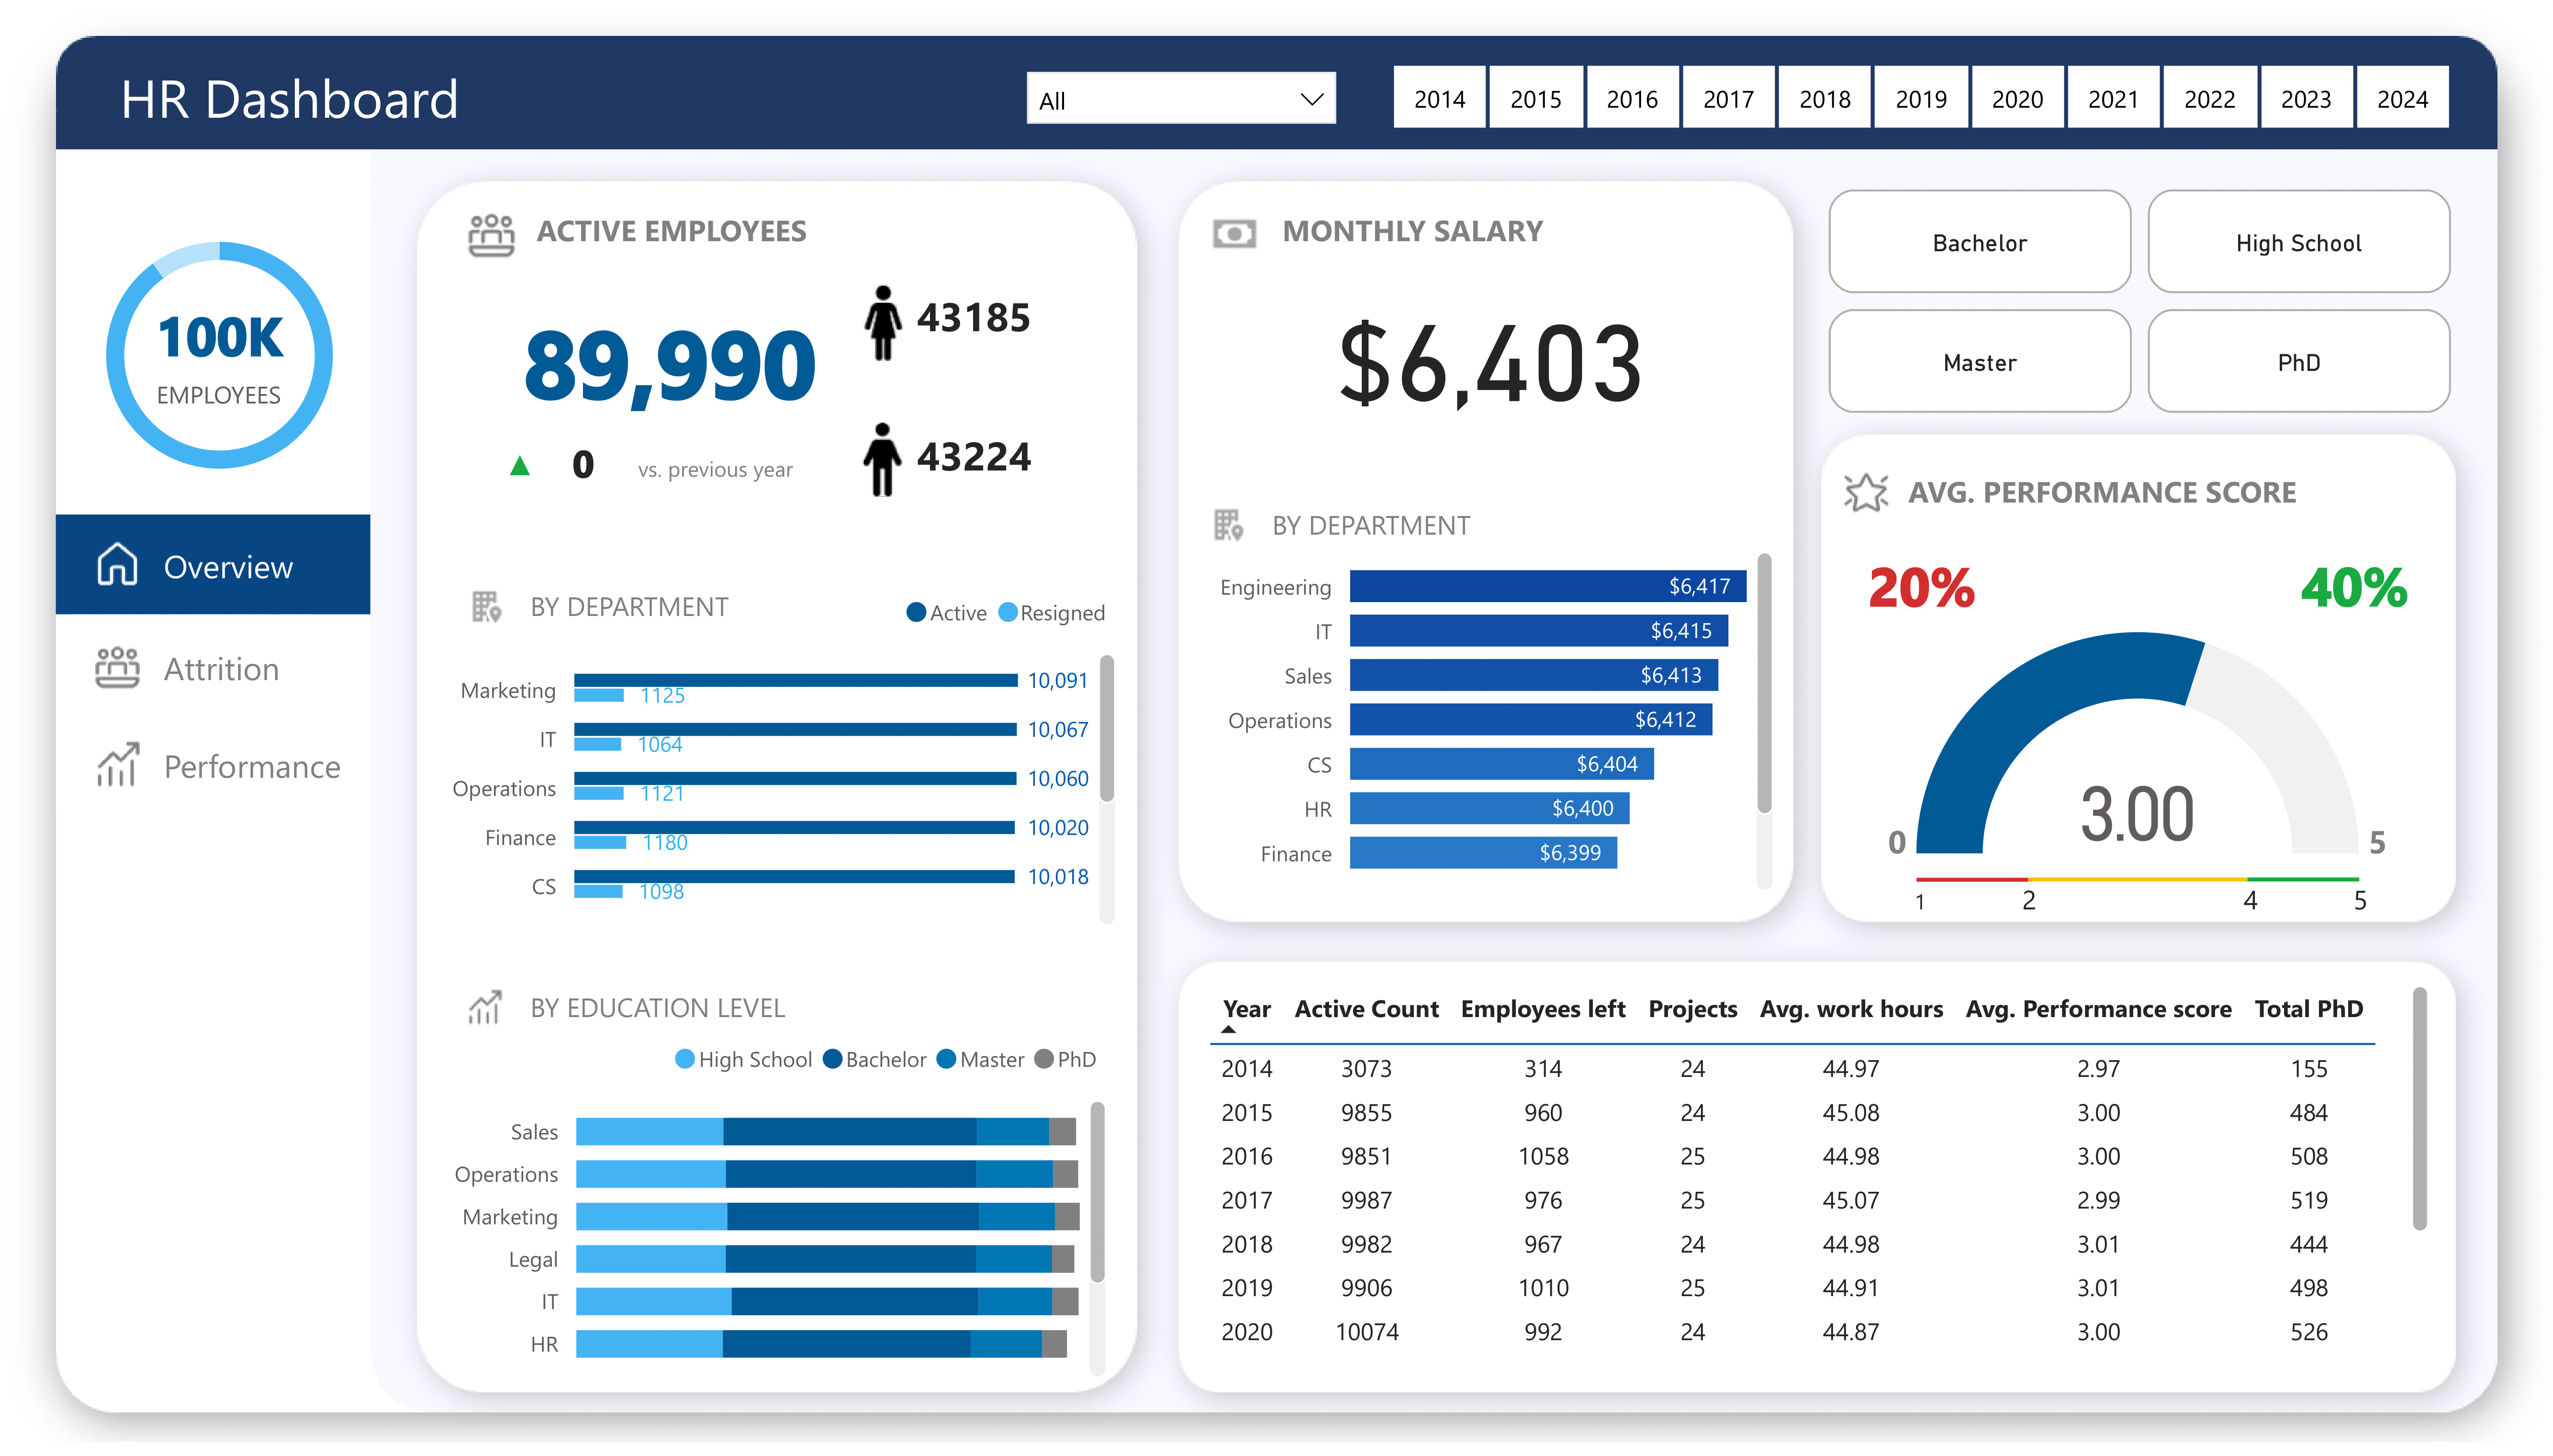

This screenshot's page, from the dashboard's own definition file:
{"tool":"powerbi","page":{"name":"Overview dashboard","canvas":[1280,720],"ordinal":0},"visuals":[{"type":"actionButton","title":"Button Performance","box":[27.8,353.4,158,50],"z":0},{"type":"shape","box":[961.8,429.5,56,12.3],"z":0,"group":"g13"},{"type":"actionButton","title":"Button Remote Work","box":[419.8,201.8,45,45],"z":1000,"group":"g2"},{"type":"shape","box":[1018,429.6,110,12],"z":1000,"group":"g13"},{"type":"actionButton","title":"Button Attrition","box":[27.6,303.6,158,50],"z":2000},{"type":"shape","box":[1128,429.6,56,12],"z":2000,"group":"g13"},{"type":"actionButton","title":"Button Perform Score","box":[414.8,126.3,55.8,60],"z":3000,"group":"g5"},{"type":"card","title":"Card Remote Work","fields":{"Values":["*Measures.LowPerformancePct"]},"box":[928.6,266.7,70,45],"z":3000,"group":"g8"},{"type":"card","title":"Card Remote Work","fields":{"Values":["*Measures.HighPerformancePct"]},"box":[1145.9,266.7,70,44.8],"z":4000},{"type":"actionButton","title":"Button Perform Score","box":[920.4,225.6,32,32],"z":5000,"group":"g3"},{"type":"actionButton","title":"Button Perform Score","box":[601.1,243.5,28,28],"z":5000,"group":"g1"},{"type":"actionButton","title":"Button Perform Score","box":[229.3,284.7,28,28],"z":5000,"group":"g4"},{"type":"actionButton","title":"Button Perform Score","box":[229.3,486.1,28,28],"z":5000,"group":"g6"},{"type":"actionButton","title":"Button Overview Active","box":[27.7,253.2,157.7,50],"z":6000},{"type":"slicer","fields":{"Values":["Employee.Department"]},"box":[504.9,21,175,45],"z":7000},{"type":"actionButton","title":"Button Perform Score","box":[229.3,95.2,35,35],"z":7000,"group":"g10"},{"type":"textbox","box":[54.7,20.3,254,50],"z":8000},{"type":"clusteredBarChart","title":"DEPARTMENT","fields":{"Category":["Employee.Department (Short)"],"Y":["*Measures.AvgSalary"]},"box":[601.1,259.1,292.9,187.3],"z":9000},{"type":"barChart","title":"EDUCATION LEVEL","fields":{"Category":["Employee.Department (Short)"],"Y":["*Measures.ActiveEmployeeCount"],"Series":["EducationLevelTable.Education_Level"]},"box":[212.9,507.1,346.4,182.9],"z":10000},{"type":"card","title":"Card Total Employees","fields":{"Values":["*Measures.TotalEmployees"]},"box":[38.6,127.1,141.4,90],"z":11000},{"type":"donutChart","fields":{"Y":["*Measures.ActiveEmployeeCount","*Measures.ExitEmployee"]},"box":[33.6,75.7,152.1,194.3],"z":12000},{"type":"card","title":"ACTIVE EMPLOYEES","fields":{"Values":["*Measures.ActiveEmployeeCount"]},"box":[256,130.6,160,88.6],"z":12000,"group":"g9"},{"type":"card","title":"Card Active Employees","fields":{"Values":["*Measures.ActiveChangeABS"]},"box":[263.5,213.6,59.1,30],"z":13000,"group":"g7"},{"type":"tableEx","fields":{"Values":["DateTable.Year","*Measures.ActiveEmployeeCount","*Measures.TotalResigned","*Measures.Total Projects","*Measures.AvgWorkHours","*Measures.AvgPerformanceScore","*Measures.Total_PhD"]},"box":[601.4,484.3,622.1,199.3],"z":13000},{"type":"slicer","fields":{"Values":["DateTable.Year"]},"box":[673.2,21,579.2,45],"z":14000},{"type":"clusteredBarChart","fields":{"Category":["Employee.Department (Short)"],"Y":["*Measures.ActiveEmployeeCount","*Measures.TotalResigned"]},"box":[212.1,282.9,352.1,180],"z":15000},{"type":"card","title":"Monthly salary | DEPARTMENT","fields":{"Values":["*Measures.AvgSalary"]},"box":[653.9,124.6,187.9,90.3],"z":16000},{"type":"advancedSlicerVisual","fields":{"Values":["Employee.Education_Level"]},"box":[912.4,85.3,323,122.2],"z":17000},{"type":"gauge","title":"AVG. PERFORMANCE SCORE","fields":{"Y":["*Measures.AvgPerformanceScore"],"MaxValue":["*Measures.MaxPerformance"]},"box":[928.2,306.4,287.7,125.9],"z":17000,"group":"g11"},{"type":"group","id":"g1","title":"Group 4","box":[601.1,243.5,246.2,31.9],"z":18000},{"type":"card","fields":{"Values":["*Measures.Female"]},"box":[447.1,124.6,83.3,60],"z":19000,"group":"g5"},{"type":"group","id":"g2","title":"Group 2","box":[419.8,194.3,109.8,60],"z":19000,"group":"g9"},{"type":"group","id":"g3","title":"Group 4","box":[920.4,225.6,246.2,32.3],"z":19000,"group":"g11"},{"type":"group","id":"g4","title":"Group 4","box":[229.3,284.7,246.2,31.9],"z":19000},{"type":"textbox","box":[264.3,95,157.9,32.1],"z":20000,"group":"g10"},{"type":"group","id":"g5","title":"Group 3","box":[414.8,124.6,115.7,61.7],"z":20000,"group":"g9"},{"type":"group","id":"g6","title":"Group 4","box":[229.3,486.1,246.2,32.3],"z":20000},{"type":"group","id":"g7","title":"Group 1","box":[246.2,213.6,165.9,30],"z":21000,"group":"g9"},{"type":"group","id":"g8","title":"Group 5","box":[928.6,266.7,70,44.8],"z":21000},{"type":"textbox","box":[638.5,95.7,165.7,32.1],"z":21002,"group":"g12"},{"type":"textbox","box":[952.3,226,214.3,31.9],"z":21006,"group":"g3"},{"type":"textbox","box":[633,243.5,214.3,31.9],"z":21006,"group":"g1"},{"type":"textbox","box":[261.2,284.7,214.3,31.9],"z":21006,"group":"g4"},{"type":"textbox","box":[261.2,486.5,214.3,31.9],"z":21006,"group":"g6"},{"type":"actionButton","title":"Button Perform Score","box":[601.4,94.3,36.4,37.1],"z":21007,"group":"g12"},{"type":"group","id":"g9","title":"Group 7","box":[246.2,124.6,284.3,129.7],"z":22000},{"type":"group","id":"g10","title":"Group 9","box":[229.3,95,192.9,35.2],"z":23000},{"type":"card","fields":{"Values":["*Measures.Male"]},"box":[446.3,194.3,83.3,60],"z":23000,"group":"g2"},{"type":"group","id":"g11","title":"Group 10","box":[920.4,225.6,295.5,237.4],"z":24000},{"type":"group","id":"g12","title":"Group 6","box":[601.4,94.3,202.9,37.1],"z":25000},{"type":"textbox","box":[314.8,214.6,97.3,29],"z":25000,"group":"g7"},{"type":"card","fields":{"Values":["*Measures.Change_Icon"]},"box":[246.2,215.1,29.3,24],"z":26000,"group":"g7"},{"type":"textbox","box":[955.4,431.5,15,31.4],"z":26000,"group":"g11"},{"type":"textbox","box":[1175.3,431.5,17.7,31.4],"z":27000,"group":"g11"},{"type":"textbox","box":[1120.5,431.5,17,31.5],"z":28000,"group":"g11"},{"type":"textbox","box":[1009,431.5,18,31],"z":29000,"group":"g11"},{"type":"group","id":"g13","title":"Group 8","box":[961.8,429.5,222.2,12.3],"z":30000,"group":"g11"}]}

Visuals, with their boxes in screenshot pixels (x1, y1, x2, y2), scaled from the page's 1280x720 canvas onto the 2553x1456 screenshot:
"Button Performance" actionButton: pyautogui.locateOnScreen(56, 715, 370, 816)
shape: pyautogui.locateOnScreen(1918, 869, 2030, 894)
"Button Remote Work" actionButton: pyautogui.locateOnScreen(837, 408, 927, 499)
shape: pyautogui.locateOnScreen(2030, 869, 2250, 893)
"Button Attrition" actionButton: pyautogui.locateOnScreen(55, 614, 370, 715)
shape: pyautogui.locateOnScreen(2250, 869, 2362, 893)
"Button Perform Score" actionButton: pyautogui.locateOnScreen(828, 256, 939, 377)
"Card Remote Work" card: pyautogui.locateOnScreen(1852, 539, 1992, 630)
"Card Remote Work" card: pyautogui.locateOnScreen(2285, 539, 2425, 630)
"Button Perform Score" actionButton: pyautogui.locateOnScreen(1836, 456, 1900, 521)
"Button Perform Score" actionButton: pyautogui.locateOnScreen(1199, 493, 1255, 549)
"Button Perform Score" actionButton: pyautogui.locateOnScreen(458, 576, 513, 632)
"Button Perform Score" actionButton: pyautogui.locateOnScreen(458, 983, 513, 1040)
"Button Overview Active" actionButton: pyautogui.locateOnScreen(55, 512, 370, 613)
slicer - Employee.Department: pyautogui.locateOnScreen(1007, 43, 1356, 134)
"Button Perform Score" actionButton: pyautogui.locateOnScreen(458, 192, 527, 263)
textbox: pyautogui.locateOnScreen(109, 41, 616, 142)
"DEPARTMENT" clusteredBarChart: pyautogui.locateOnScreen(1199, 524, 1783, 903)
"EDUCATION LEVEL" barChart: pyautogui.locateOnScreen(425, 1025, 1116, 1395)
"Card Total Employees" card: pyautogui.locateOnScreen(77, 257, 359, 439)
donutChart - *Measures.ActiveEmployeeCount x *Measures.ExitEmployee: pyautogui.locateOnScreen(67, 153, 370, 546)
"ACTIVE EMPLOYEES" card: pyautogui.locateOnScreen(511, 264, 830, 443)
"Card Active Employees" card: pyautogui.locateOnScreen(526, 432, 643, 493)
tableEx - DateTable.Year x *Measures.ActiveEmployeeCount: pyautogui.locateOnScreen(1199, 979, 2441, 1382)
slicer - DateTable.Year: pyautogui.locateOnScreen(1343, 43, 2498, 134)
clusteredBarChart - Employee.Department (Short) x *Measures.ActiveEmployeeCount: pyautogui.locateOnScreen(423, 572, 1125, 936)
"Monthly salary | DEPARTMENT" card: pyautogui.locateOnScreen(1304, 252, 1679, 435)
advancedSlicerVisual - Employee.Education_Level: pyautogui.locateOnScreen(1820, 172, 2464, 420)
"AVG. PERFORMANCE SCORE" gauge: pyautogui.locateOnScreen(1851, 620, 2425, 874)
"Group 4" group: pyautogui.locateOnScreen(1199, 493, 1690, 557)
card - *Measures.Female: pyautogui.locateOnScreen(892, 252, 1058, 373)
"Group 2" group: pyautogui.locateOnScreen(837, 393, 1056, 514)
"Group 4" group: pyautogui.locateOnScreen(1836, 456, 2327, 522)
"Group 4" group: pyautogui.locateOnScreen(458, 576, 948, 640)
textbox: pyautogui.locateOnScreen(527, 192, 842, 257)
"Group 3" group: pyautogui.locateOnScreen(828, 252, 1058, 377)
"Group 4" group: pyautogui.locateOnScreen(458, 983, 948, 1048)
"Group 1" group: pyautogui.locateOnScreen(491, 432, 822, 493)
"Group 5" group: pyautogui.locateOnScreen(1852, 539, 1992, 630)
textbox: pyautogui.locateOnScreen(1274, 193, 1604, 258)
textbox: pyautogui.locateOnScreen(1899, 457, 2327, 522)
textbox: pyautogui.locateOnScreen(1263, 493, 1690, 557)
textbox: pyautogui.locateOnScreen(521, 576, 948, 640)
textbox: pyautogui.locateOnScreen(521, 984, 948, 1048)
"Button Perform Score" actionButton: pyautogui.locateOnScreen(1199, 190, 1272, 266)
"Group 7" group: pyautogui.locateOnScreen(491, 252, 1058, 514)
"Group 9" group: pyautogui.locateOnScreen(458, 192, 842, 263)
card - *Measures.Male: pyautogui.locateOnScreen(890, 393, 1056, 514)
"Group 10" group: pyautogui.locateOnScreen(1836, 456, 2425, 936)
"Group 6" group: pyautogui.locateOnScreen(1199, 190, 1604, 266)
textbox: pyautogui.locateOnScreen(628, 434, 822, 493)
card - *Measures.Change_Icon: pyautogui.locateOnScreen(491, 435, 549, 483)
textbox: pyautogui.locateOnScreen(1905, 873, 1936, 936)
textbox: pyautogui.locateOnScreen(2344, 873, 2379, 936)
textbox: pyautogui.locateOnScreen(2235, 873, 2269, 936)
textbox: pyautogui.locateOnScreen(2013, 873, 2049, 935)
"Group 8" group: pyautogui.locateOnScreen(1918, 869, 2362, 894)
